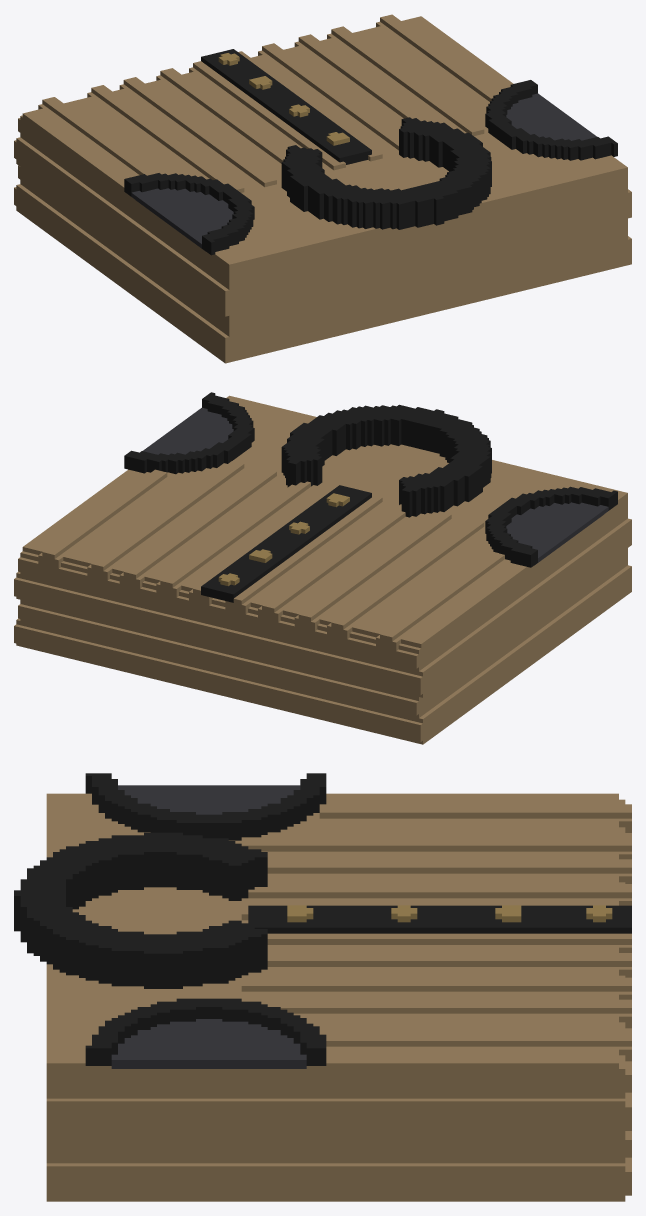
File: gambeson_nylon_vest.glb
3 views of the same model, one above another, from view 1: azimuth 30°, elevation 25°; view 2: azimuth 150°, elevation 25°; view 3: azimuth 270°, elevation 25° (orthographic). The views are drawn at different scales.
Parts seen in each view (by area): view 1: gambeson_nylon_vest:compound; view 2: gambeson_nylon_vest:compound; view 3: gambeson_nylon_vest:compound.
Boxes of the visible parts, x1,y1,x2,y2 form: gambeson_nylon_vest:compound: (14,14,631,363); gambeson_nylon_vest:compound: (14,392,631,744); gambeson_nylon_vest:compound: (14,773,631,1201).
Size of the model in its own units: 0.4 by 0.116 by 0.38.
